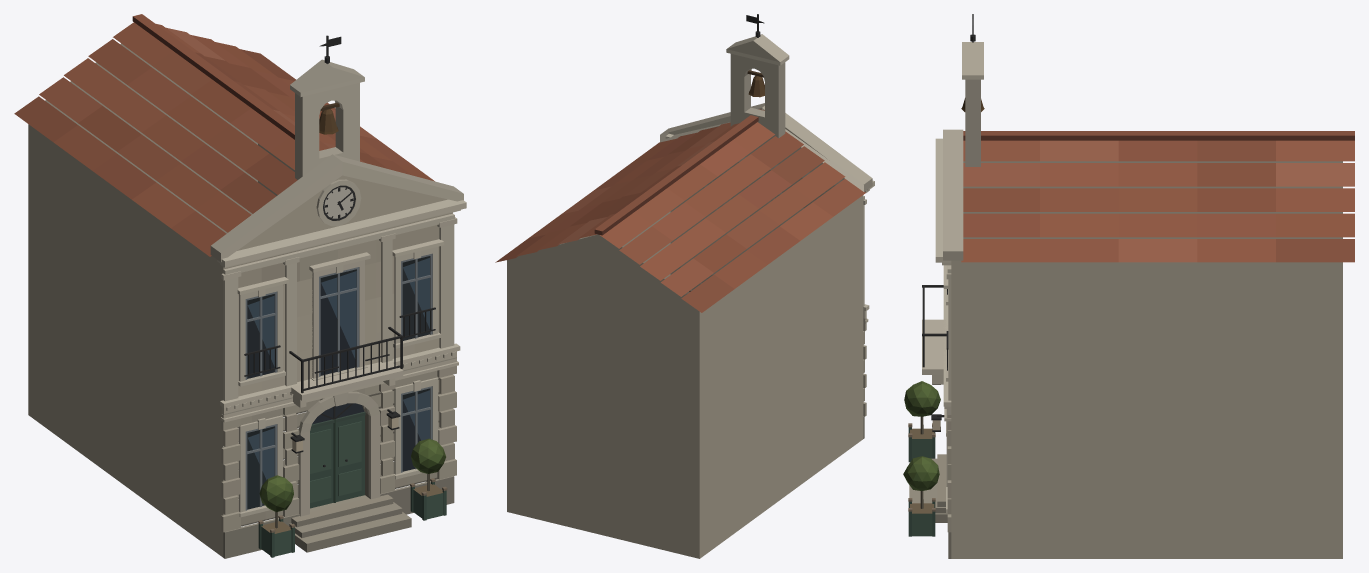
Rendered from mairie.glb.
3 views of the same model, side by side, from view 1: azimuth 30°, elevation 25°; view 2: azimuth 150°, elevation 25°; view 3: azimuth 270°, elevation 25° (orthographic). The views are drawn at different scales.
Parts seen in each view (by area): view 1: mairie; view 2: mairie; view 3: mairie.
Boxes of the visible parts, x1=… form: mairie: x1=14, y1=14, x2=466, y2=558; mairie: x1=495, y1=14, x2=874, y2=558; mairie: x1=903, y1=14, x2=1354, y2=558.
Bounding box in the file's own units: 7.3 × 13.76 × 11.53.
